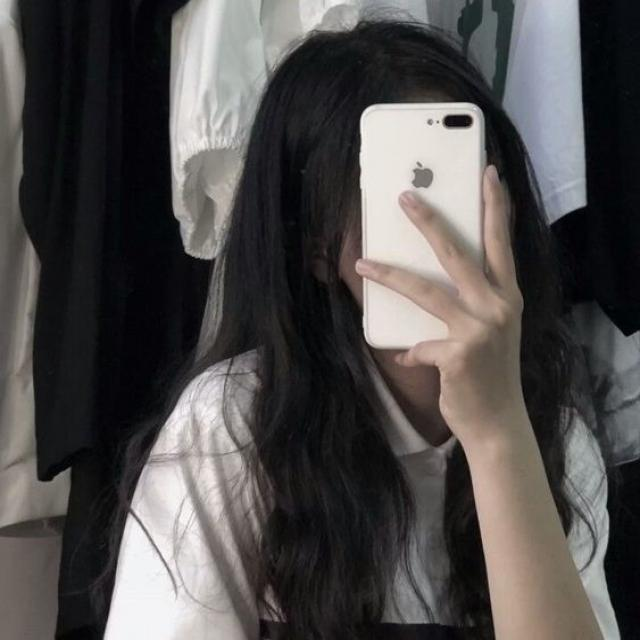phone: (360, 103, 488, 350)
